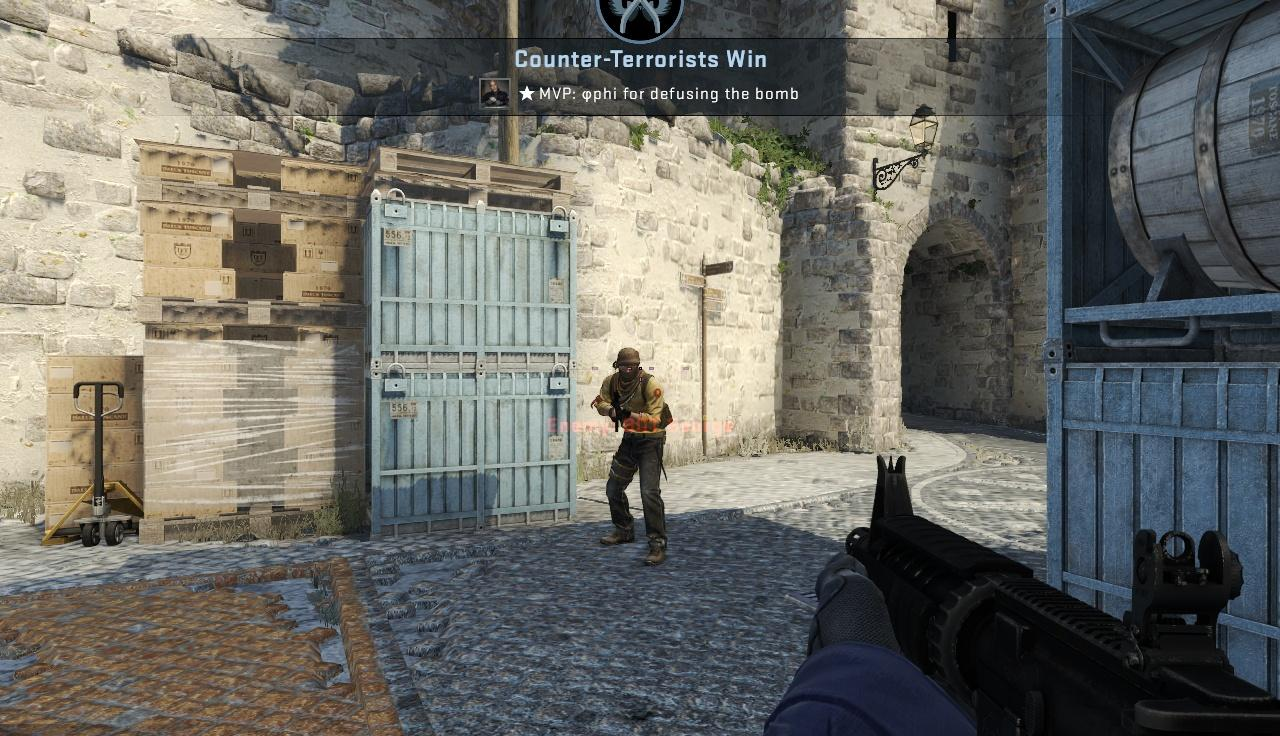rifle: (833, 460, 1280, 736)
tt: (601, 345, 669, 562)
tthead: (614, 348, 645, 380)
